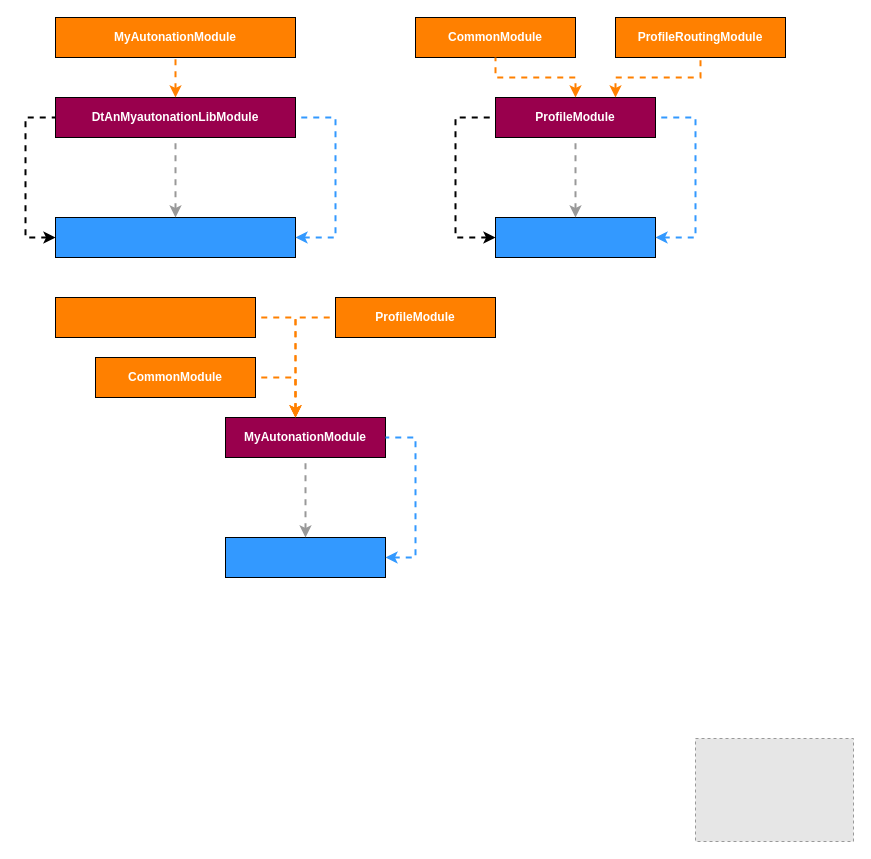
This 871x859 diagram has some shape labels left out. Grey dashed boxes stand in for pictures. Here are the shapes that lost their labels. From the top down, the centre of each, then its label:
(175,237): DtAnMyautonationLibComponent
(575,237): ProfileComponent
(155,317): MyAutonationRoutingModule
(305,557): MyAutonationComponent
